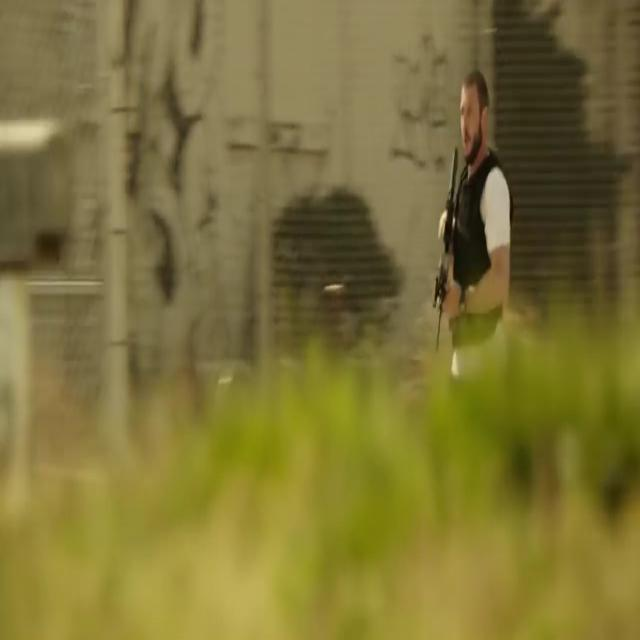Weapon: (426, 92, 465, 346)
